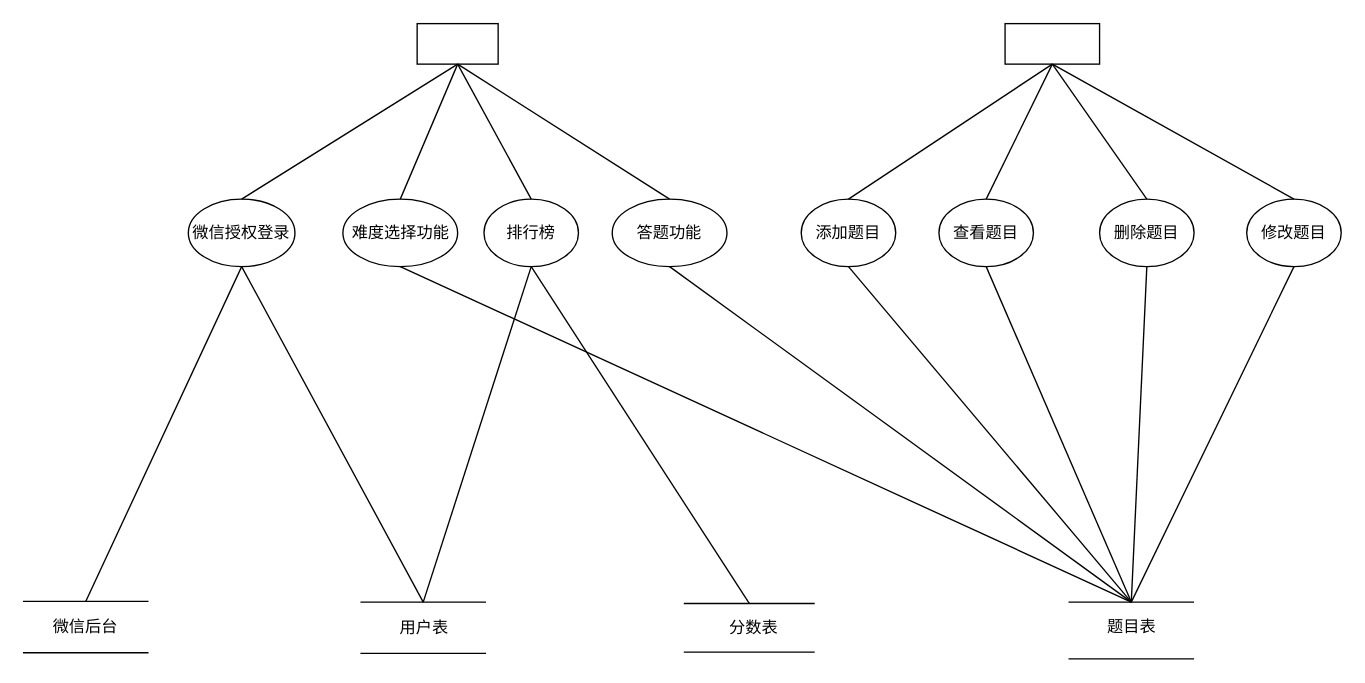
The diagram is 1365 pixels wide and 683 high, and some of its shapes have lost their labels. The shapes that lost their labels are listed below. From the top down, each one's centre as x and y in pixels, then its label:
point (457, 43): 普通用户
point (1052, 43): 管理员
